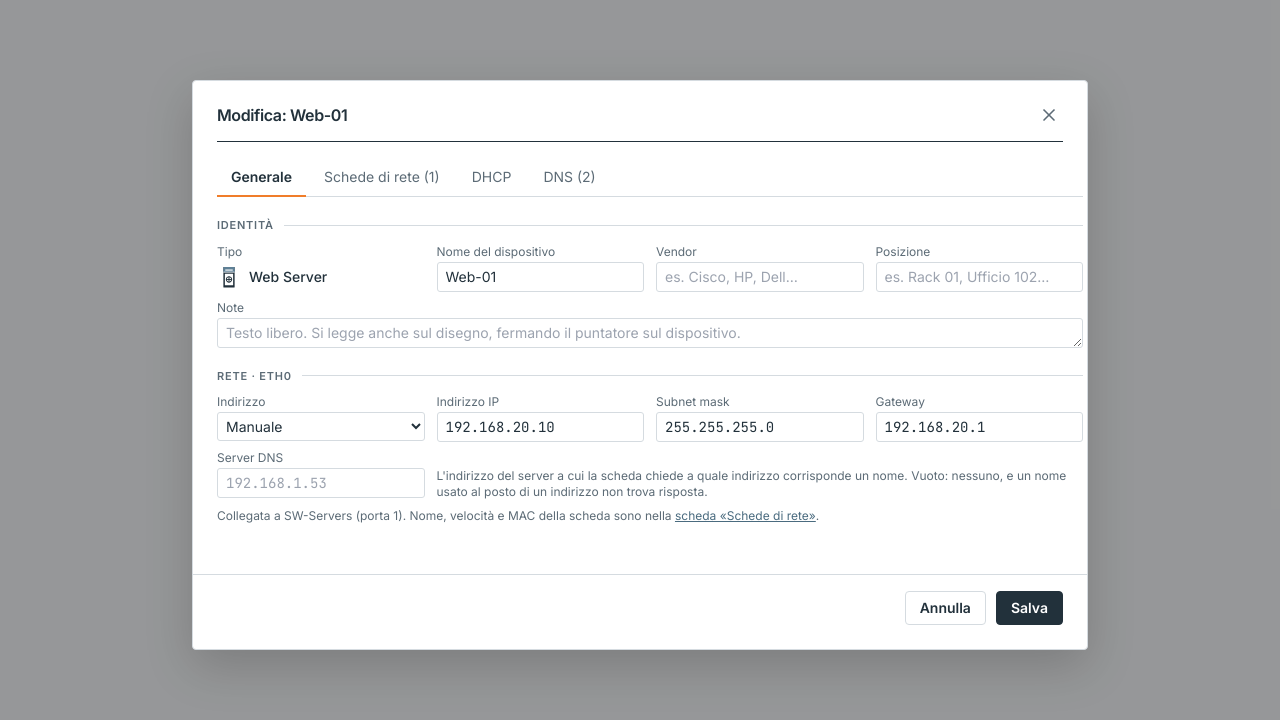
Test: InspectorModal — the «DNS» tab of a server › a name is deleted by its own button; with the last one the list is gone from the device
Later steps or results of the test are not shown.
Click the button "DNS (2)" at (570, 178), box [529,158,610,197]
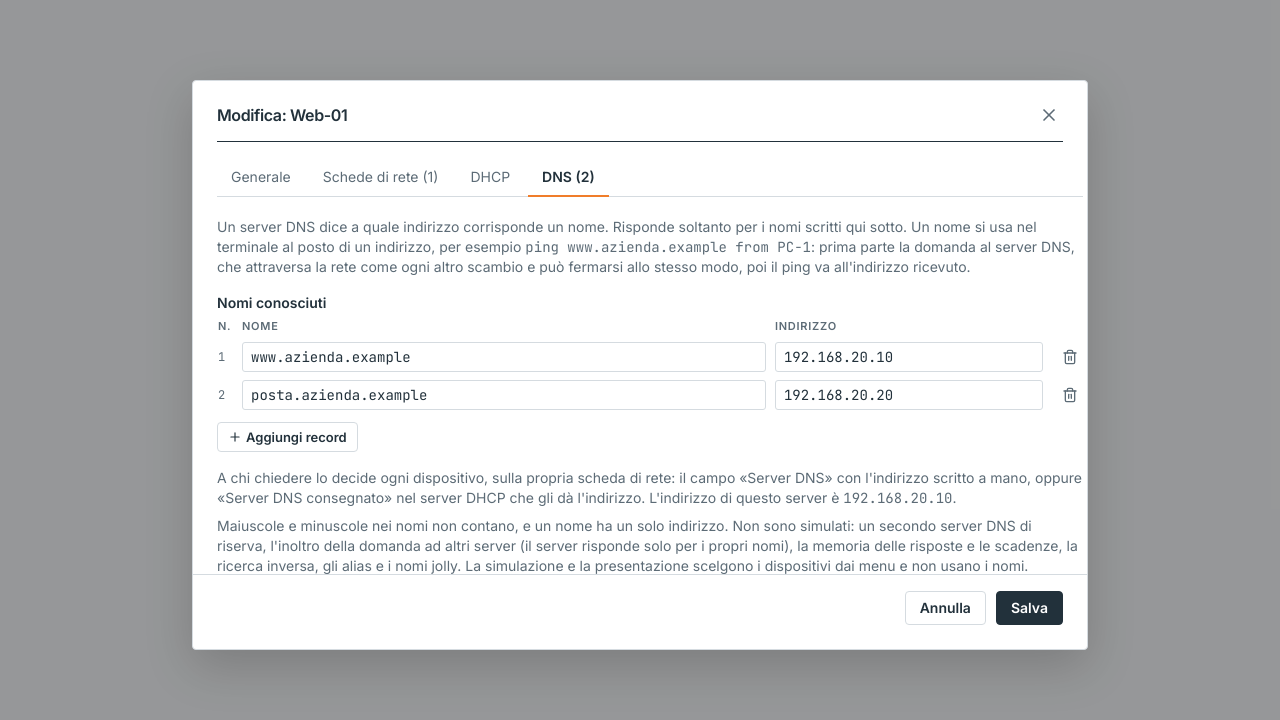
Click the button named "Elimina il record 1" at (1070, 356), box [1058,344,1082,368]
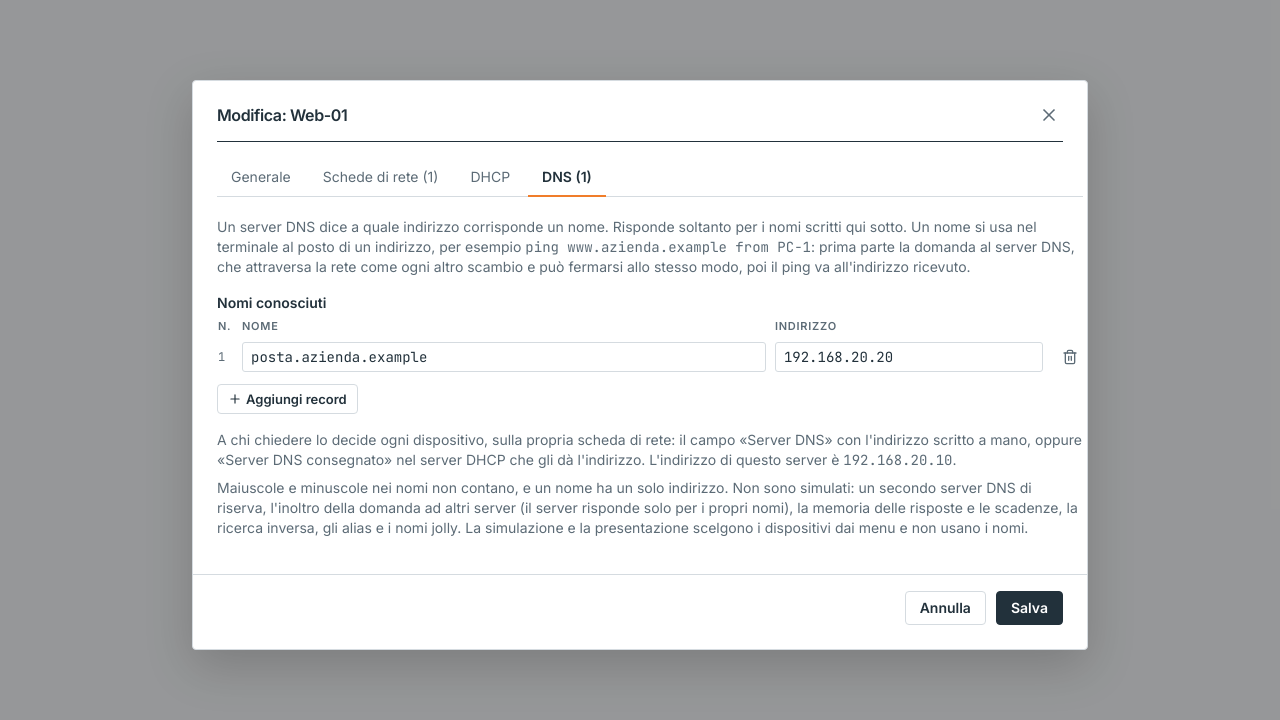
Expected: the field named "Nome del record 1" holds "posta.azienda.example", [242,342,766,372]
